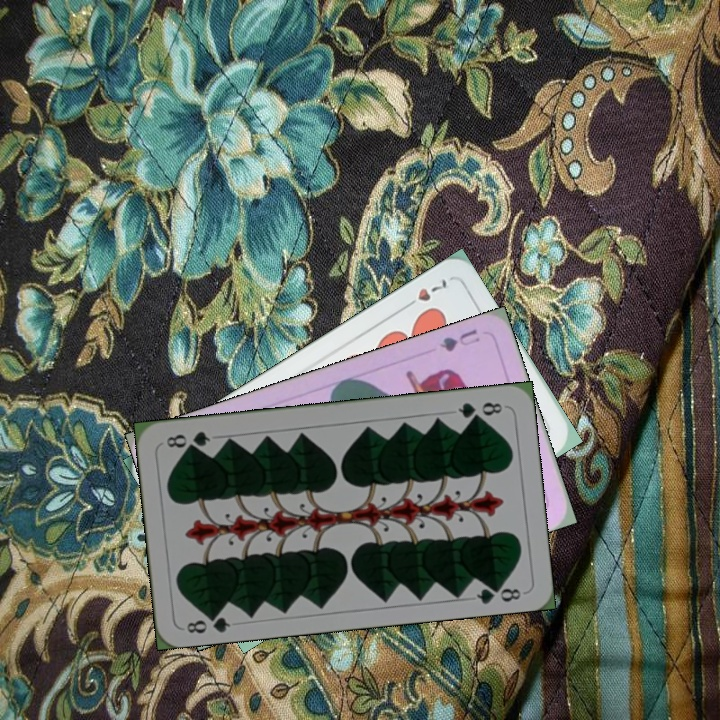G8: (183, 608, 233, 636), (454, 398, 505, 422)
GU: (435, 325, 483, 354)
H7: (398, 275, 452, 313)
